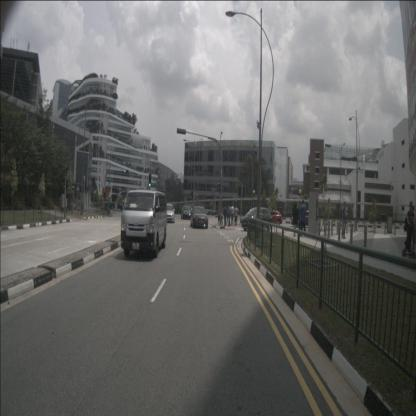human-pedestrian-adult: (300, 199, 307, 237), (292, 203, 299, 237), (341, 201, 347, 239), (298, 204, 303, 236), (227, 203, 232, 226), (234, 204, 239, 226), (223, 204, 228, 226), (220, 205, 224, 227), (230, 203, 234, 225), (226, 204, 230, 225), (217, 208, 221, 226)
vehicle-car: (120, 189, 168, 259), (241, 207, 273, 232), (191, 206, 209, 229), (260, 210, 282, 226), (162, 204, 175, 224), (181, 205, 192, 220)
